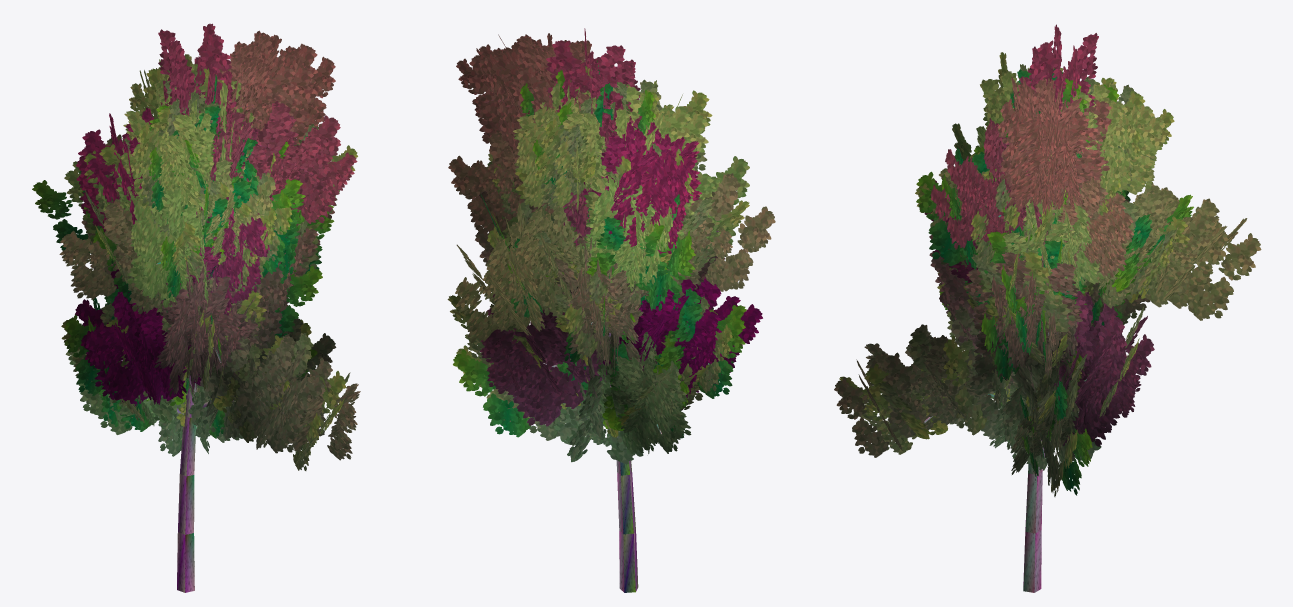
The model's file is nat_birch_c_LOD1.glb.
3 renders of one model, left to right at view 1: azimuth 30°, elevation 25°; view 2: azimuth 150°, elevation 25°; view 3: azimuth 270°, elevation 25°, orthographic. The views are drawn at different scales.
Parts seen in each view (by area): view 1: nat_birch_c_LOD1; view 2: nat_birch_c_LOD1; view 3: nat_birch_c_LOD1.
Part boxes in pixels (<box>): nat_birch_c_LOD1: <box>32,23,360,592</box>; nat_birch_c_LOD1: <box>447,28,775,592</box>; nat_birch_c_LOD1: <box>834,24,1261,592</box>.
Bounding box in the file's own units: 6.52 × 10.73 × 7.85.
Materials: 2 (2 with a texture image).
